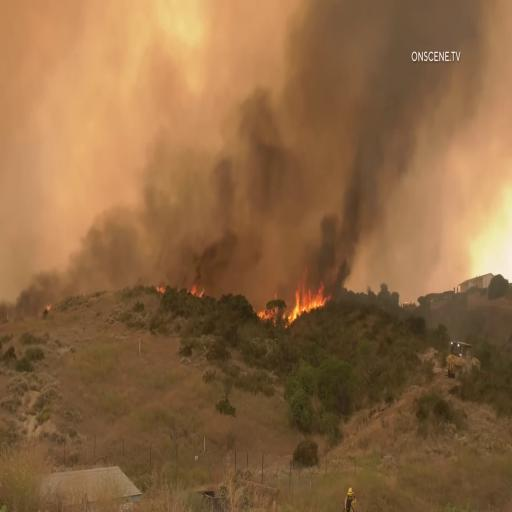fire: (258, 262, 328, 337)
smoke: (324, 75, 368, 276), (196, 160, 268, 267)
